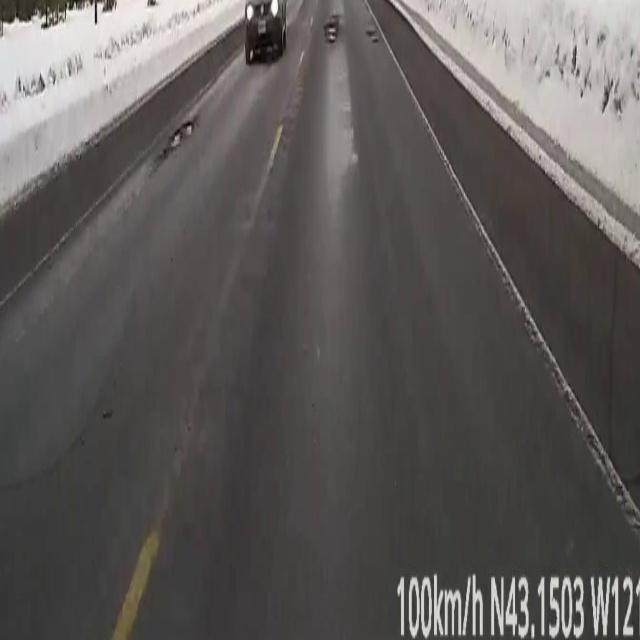pothole: (155, 119, 195, 170), (325, 22, 336, 41), (367, 30, 378, 44)
